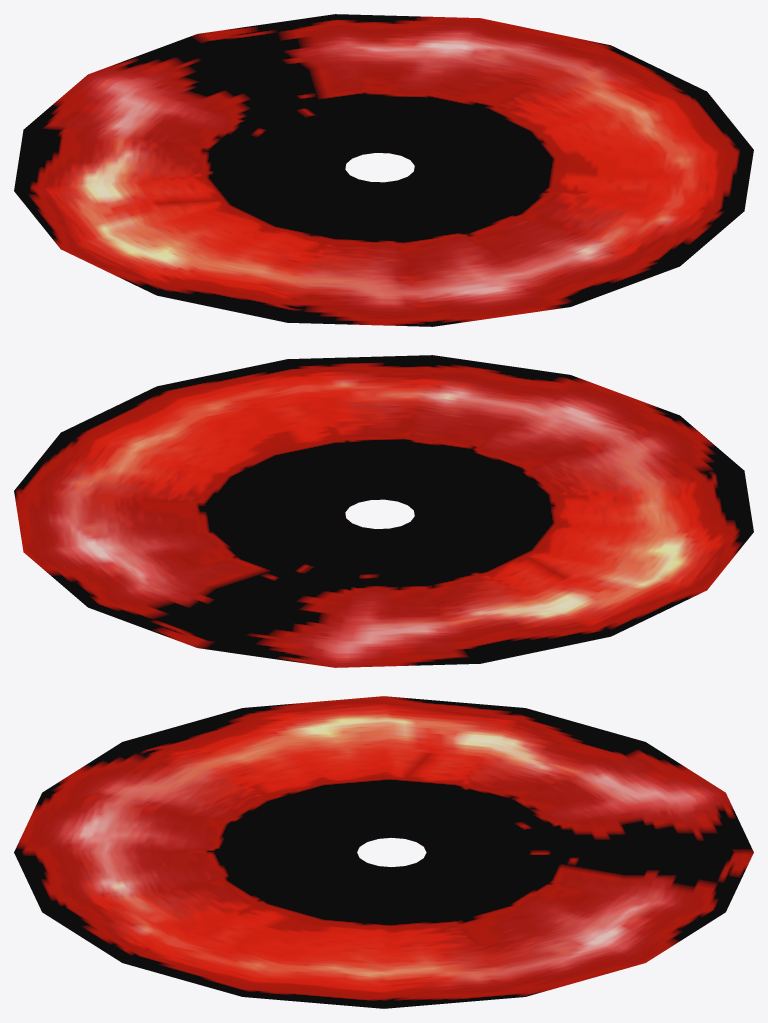
File: shahuan.FBX
3 renders of one model, top to bottom at view 1: azimuth 30°, elevation 25°; view 2: azimuth 150°, elevation 25°; view 3: azimuth 270°, elevation 25°, orthographic.
Visible parts, largest first — view 1: Tube001; view 2: Tube001; view 3: Tube001.
Part boxes in pixels (x1,y1,x2,y2): Tube001: (14,14,753,326); Tube001: (14,355,753,667); Tube001: (14,696,753,1008).
Size of the model in its own units: 215 by 3e-06 by 215.
